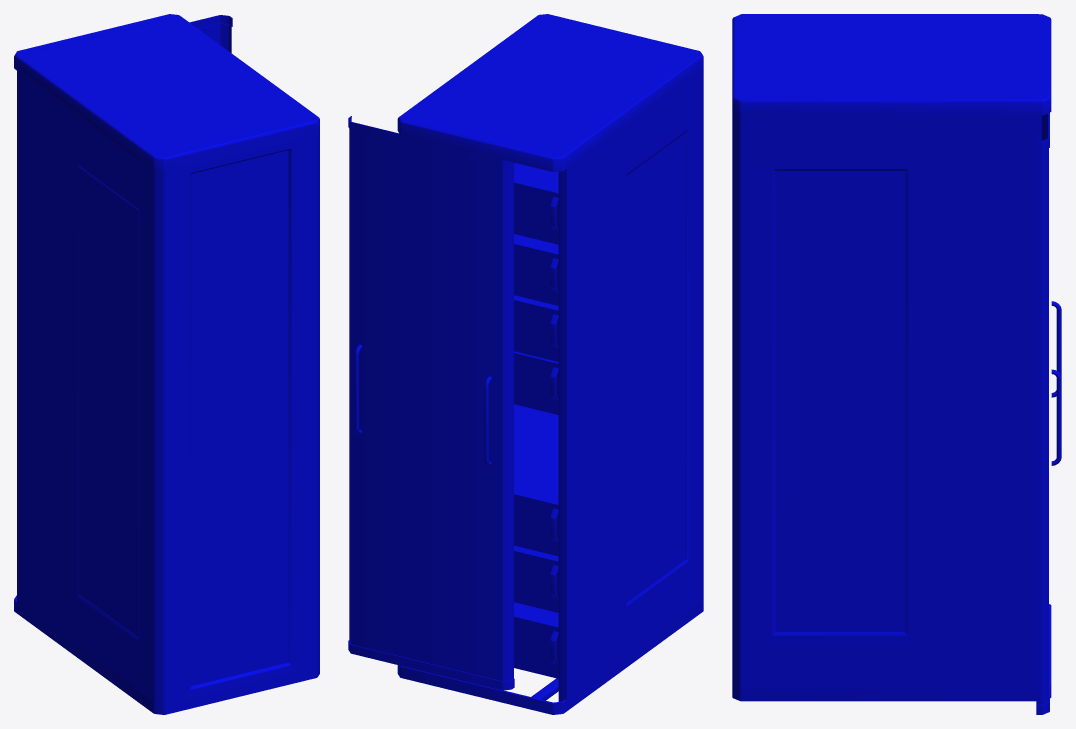
Rendered from ServerCabinet_Open.FBX.
3 renders of one model, left to right at view 1: azimuth 30°, elevation 25°; view 2: azimuth 150°, elevation 25°; view 3: azimuth 270°, elevation 25°, orthographic. The views are drawn at different scales.
Parts seen in each view (by area): view 1: Server_Rack_Low; view 2: Server_Rack_Low; view 3: Server_Rack_Low.
Boxes of the visible parts, x1,y1,x2,y2 form: Server_Rack_Low: [14, 14, 319, 714]; Server_Rack_Low: [348, 14, 703, 714]; Server_Rack_Low: [732, 14, 1061, 714].
Size of the model in its own units: 29.64 by 73.13 by 36.37.
